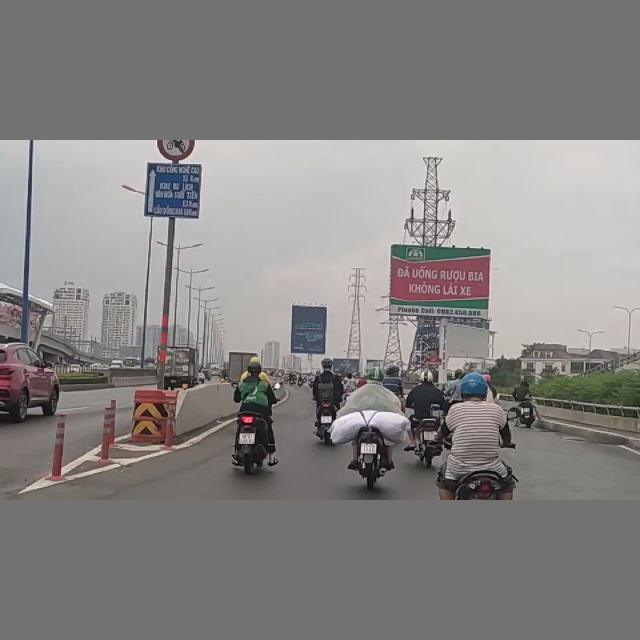P.104: (157, 141, 196, 160)
